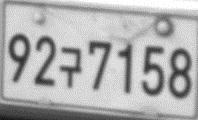1: (114, 43, 138, 93)
2: (34, 35, 55, 86)
5: (141, 44, 164, 96)
7: (88, 40, 111, 90)
8: (169, 47, 191, 98)
9: (7, 33, 30, 82)
구: (59, 46, 81, 89)
